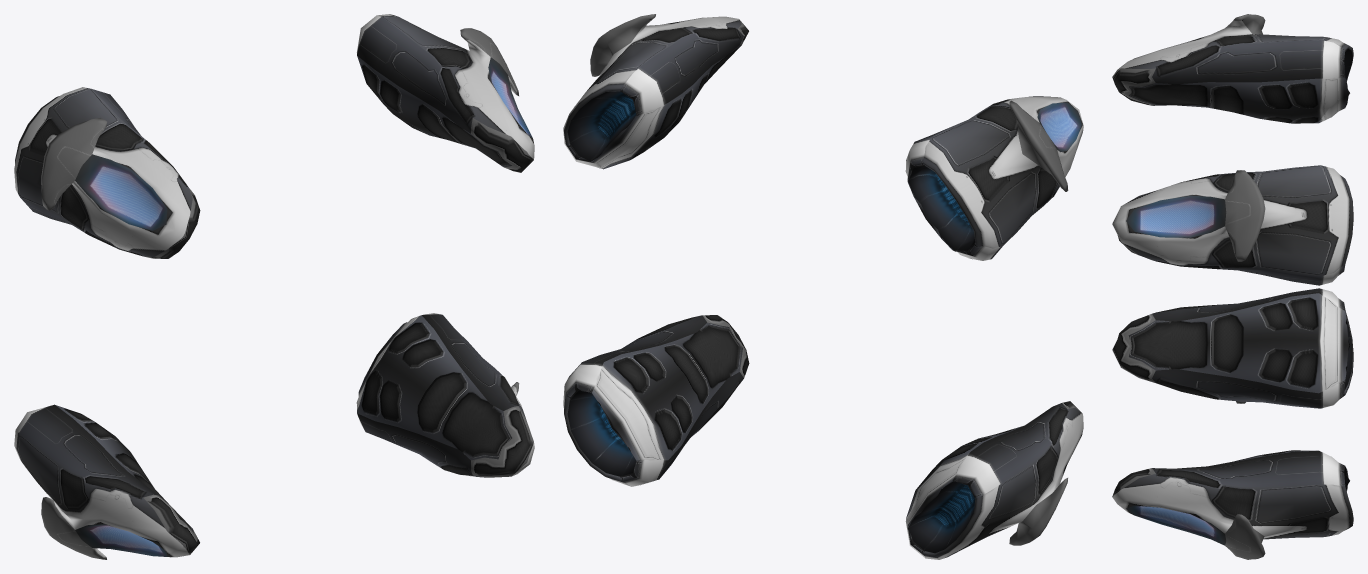
File: MotorT1.fbx
The picture shows the model from 3 angles, left to right: view 1: azimuth 30°, elevation 25°; view 2: azimuth 150°, elevation 25°; view 3: azimuth 270°, elevation 25°; orthographic projection. The views are drawn at different scales.
Parts seen in each view (by area): view 1: Motores_T1; view 2: Motores_T1; view 3: Motores_T1.
Boxes of the visible parts, box(x1,y1,x2,y2) form: Motores_T1: box(14, 14, 534, 559); Motores_T1: box(563, 14, 1083, 559); Motores_T1: box(1112, 14, 1353, 559).
Size of the model in its own units: 3.02 by 2.68 by 1.52.
